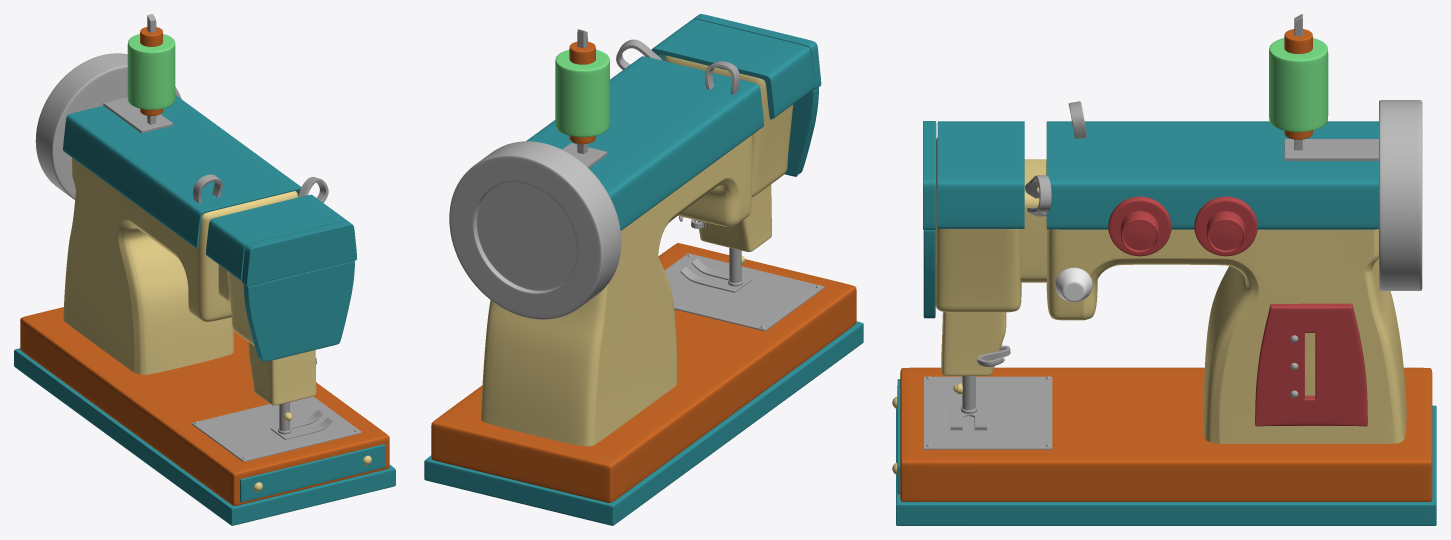
The model's file is Sew.fbx.
The picture shows the model from 3 angles, left to right: view 1: azimuth 30°, elevation 25°; view 2: azimuth 150°, elevation 25°; view 3: azimuth 270°, elevation 25°; orthographic projection. The views are drawn at different scales.
Visible parts, largest first — view 1: pCube11, pCube1, pCube14, pCube40, pCube2, pCylinder1, pCube6, pCube15, pCube39, pCube28, pCylinder3, pCube17 (+5 smaller); view 2: pCube11, pCube1, pCylinder1, pCube14, pCube2, pCube15, pCube6, pCylinder3, pCube43, pCube17, pCube40, pCube39 (+5 smaller); view 3: pCube1, pCube11, pCube14, pCube2, pCube46, pCube15, pCylinder1, pCube6, pCube43, pCylinder3, pCube17, polySurface3 (+11 smaller).
Part boxes in pixels (<box>): pCube11: <box>63,158,298,374</box>; pCube1: <box>20,307,389,505</box>; pCube14: <box>63,95,301,249</box>; pCube40: <box>243,261,354,361</box>; pCube2: <box>14,348,395,525</box>; pCylinder1: <box>35,53,181,199</box>; pCube6: <box>191,396,361,461</box>; pCube15: <box>206,194,347,280</box>; pCube39: <box>242,220,356,286</box>; pCube28: <box>240,444,385,502</box>; pCylinder3: <box>127,34,175,109</box>; pCube17: <box>248,342,316,405</box>; pCube11: <box>480,135,751,446</box>; pCube1: <box>431,243,856,502</box>; pCylinder1: <box>449,141,621,319</box>; pCube14: <box>526,56,763,230</box>; pCube2: <box>424,321,863,525</box>; pCube15: <box>651,19,814,119</box>; pCube6: <box>664,253,824,331</box>; pCylinder3: <box>555,49,609,137</box>; pCube43: <box>664,55,793,197</box>; pCube17: <box>697,184,771,251</box>; pCube40: <box>784,87,818,176</box>; pCube39: <box>693,14,821,89</box>; pCube1: <box>900,367,1432,501</box>; pCube11: <box>1046,161,1406,443</box>; pCube14: <box>1046,121,1378,229</box>; pCube2: <box>896,405,1436,525</box>; pCube46: <box>1255,303,1367,426</box>; pCube15: <box>937,121,1024,228</box>; pCylinder1: <box>1379,100,1422,290</box>; pCube6: <box>924,376,1052,449</box>; pCube43: <box>935,137,1021,312</box>; pCylinder3: <box>1269,38,1328,132</box>; pCube17: <box>941,312,1006,375</box>; polySurface3: <box>1020,159,1046,282</box>.
Size of the model in its own units: 2.44 by 5.27 by 5.64.
